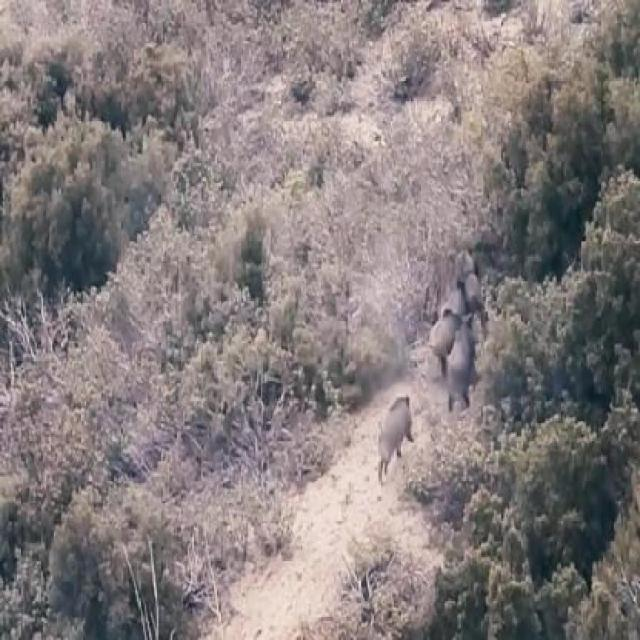pig: (454, 308, 519, 440), (369, 388, 423, 520), (422, 271, 464, 385), (460, 242, 480, 298)
